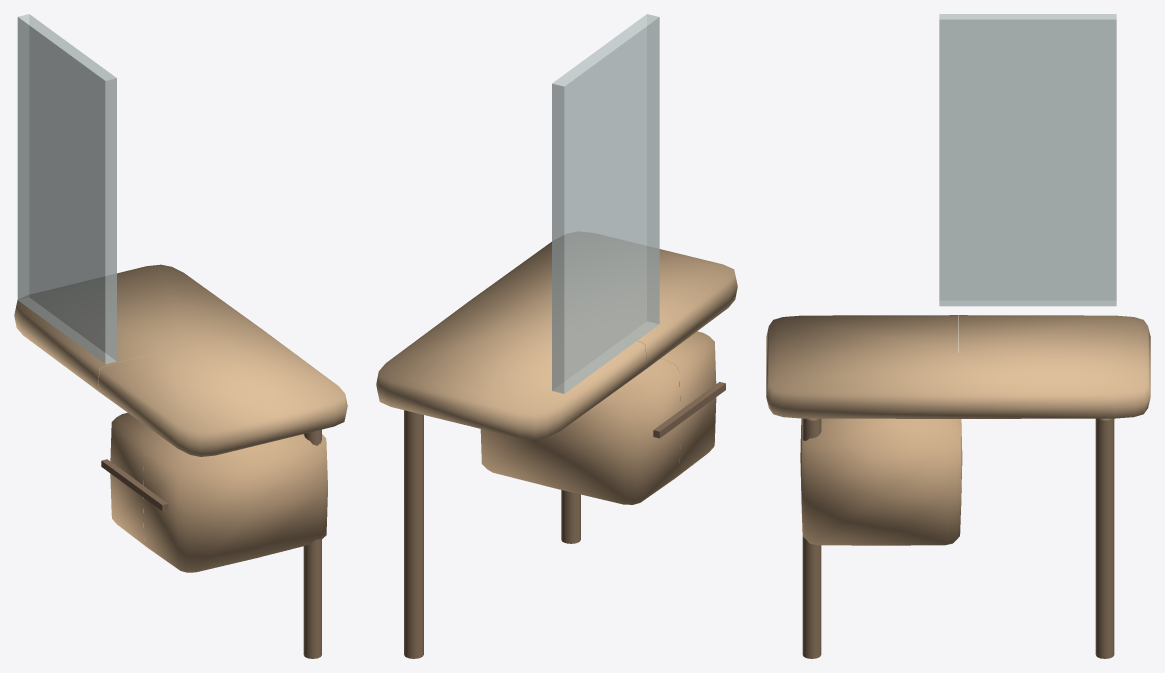
The model's file is vanity_1000x500.glb.
3 views of the same model, side by side, from view 1: azimuth 30°, elevation 25°; view 2: azimuth 150°, elevation 25°; view 3: azimuth 270°, elevation 25° (orthographic). The views are drawn at different scales.
Visible parts, largest first — view 1: vanity_top_side, upright_mirror, drawer_body, round_vanity_leg, drawer_line; view 2: upright_mirror, vanity_top_side, drawer_body, round_vanity_leg (×2), drawer_line; view 3: upright_mirror, vanity_top_side, drawer_body, round_vanity_leg (×2).
Part boxes in pixels (box(x1,y1,x2,y2)): vanity_top_side: box(14, 264, 347, 456); upright_mirror: box(17, 14, 116, 364); drawer_body: box(110, 412, 327, 572); round_vanity_leg: box(303, 429, 321, 658); drawer_line: box(101, 459, 168, 511); upright_mirror: box(552, 14, 659, 393); vanity_top_side: box(376, 242, 737, 439); drawer_body: box(480, 331, 716, 504); round_vanity_leg (×2): box(404, 410, 580, 658); drawer_line: box(653, 382, 725, 438); upright_mirror: box(939, 14, 1116, 306); vanity_top_side: box(766, 315, 1150, 418); drawer_body: box(800, 418, 962, 545); round_vanity_leg (×2): box(802, 418, 1114, 658).
Size of the model in its own units: 0.514 by 1.63 by 0.9972.
